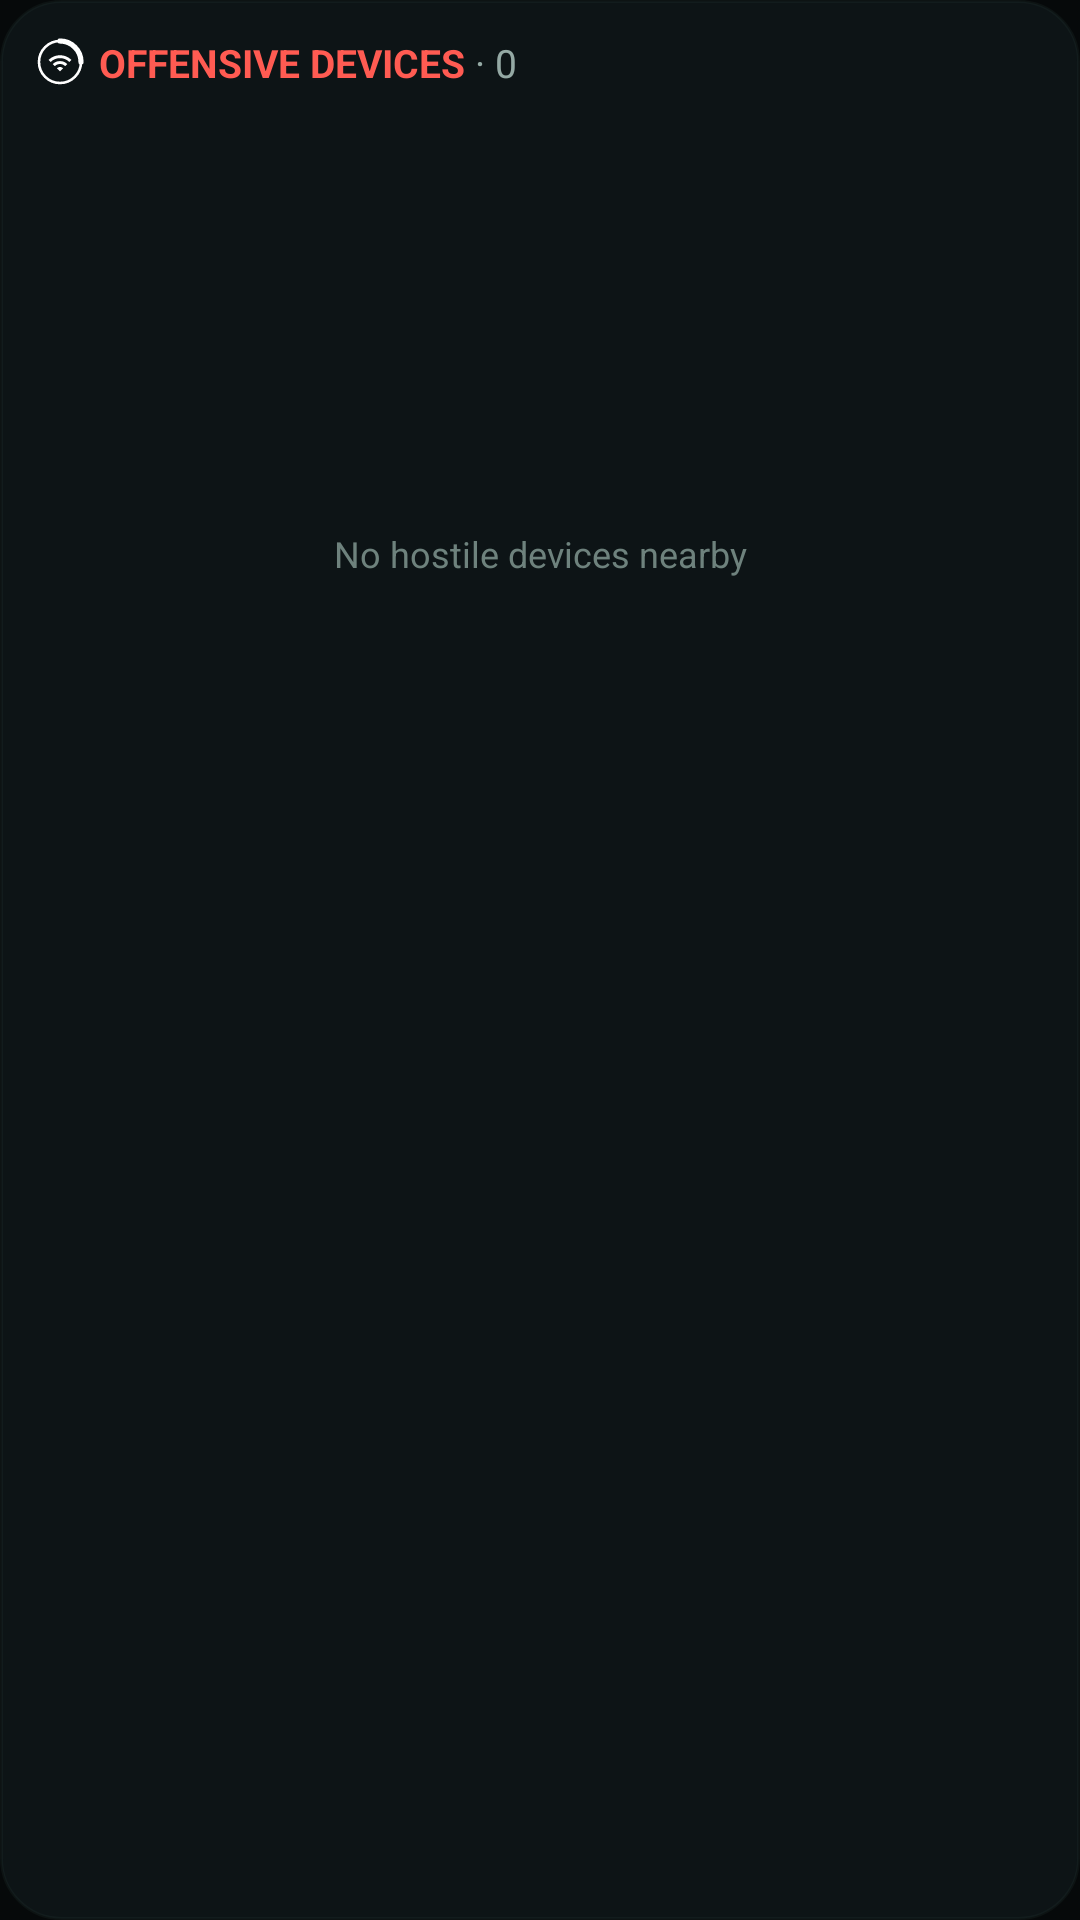

Screen size 1080px×1920px. Icon name, then its box in pixels as (x1, y1, x2, y2):
wardrive: (37, 38, 84, 85)
